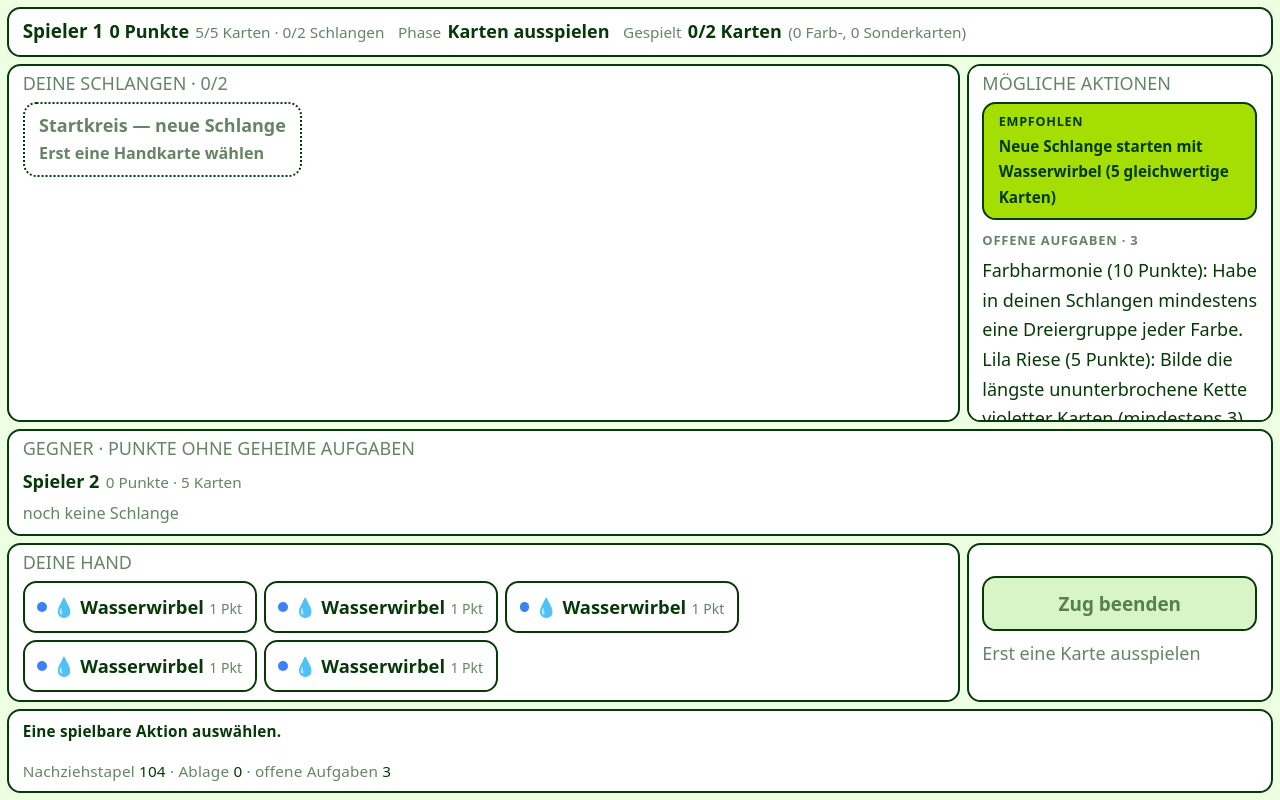
R25 bis R27 — die Phasen laufen über die Engine weiter › holt den Zug nach dem Gegnerzug von selbst zurück, mit Protokoll
The image size is (1280, 800).
Click the button that starts with "Empfohlen" at (1120, 161), box 982,102 -> 1257,220
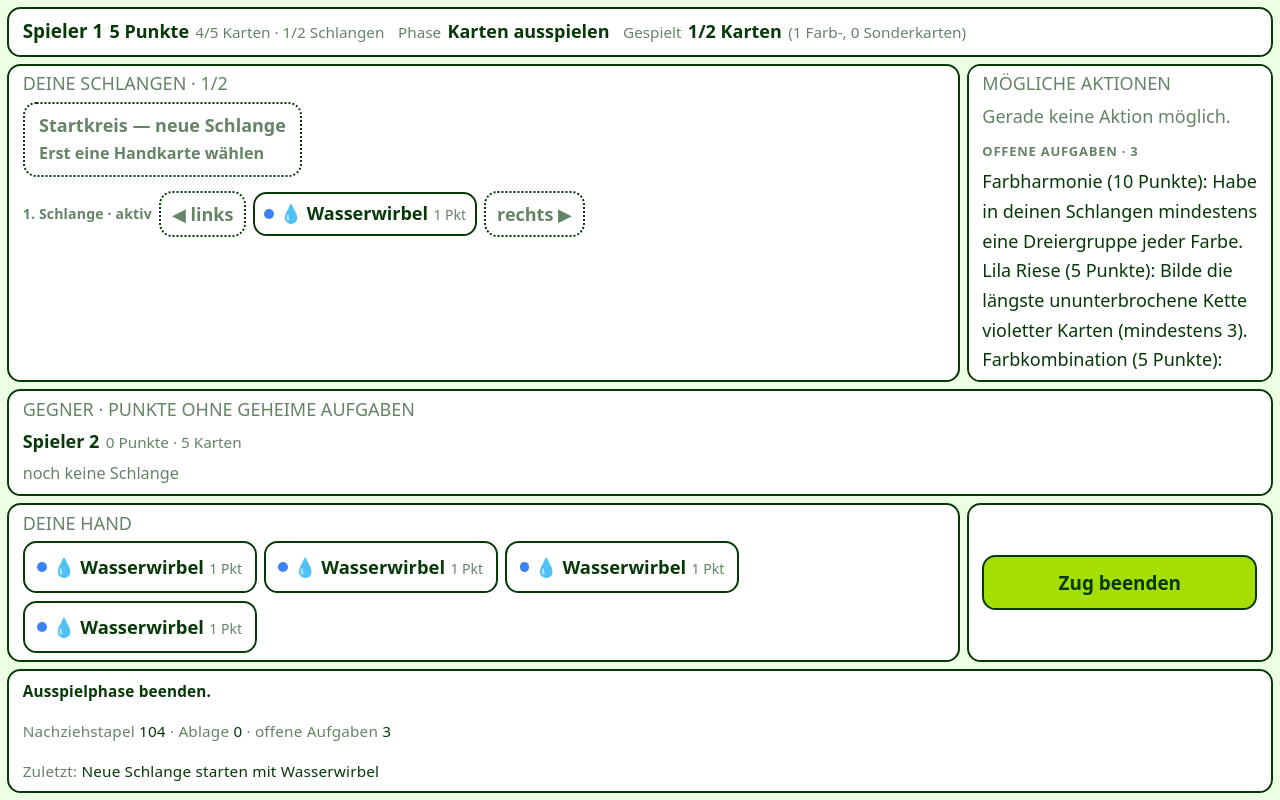
Click the button "Zug beenden" at (1120, 583), box 982,555 -> 1257,610
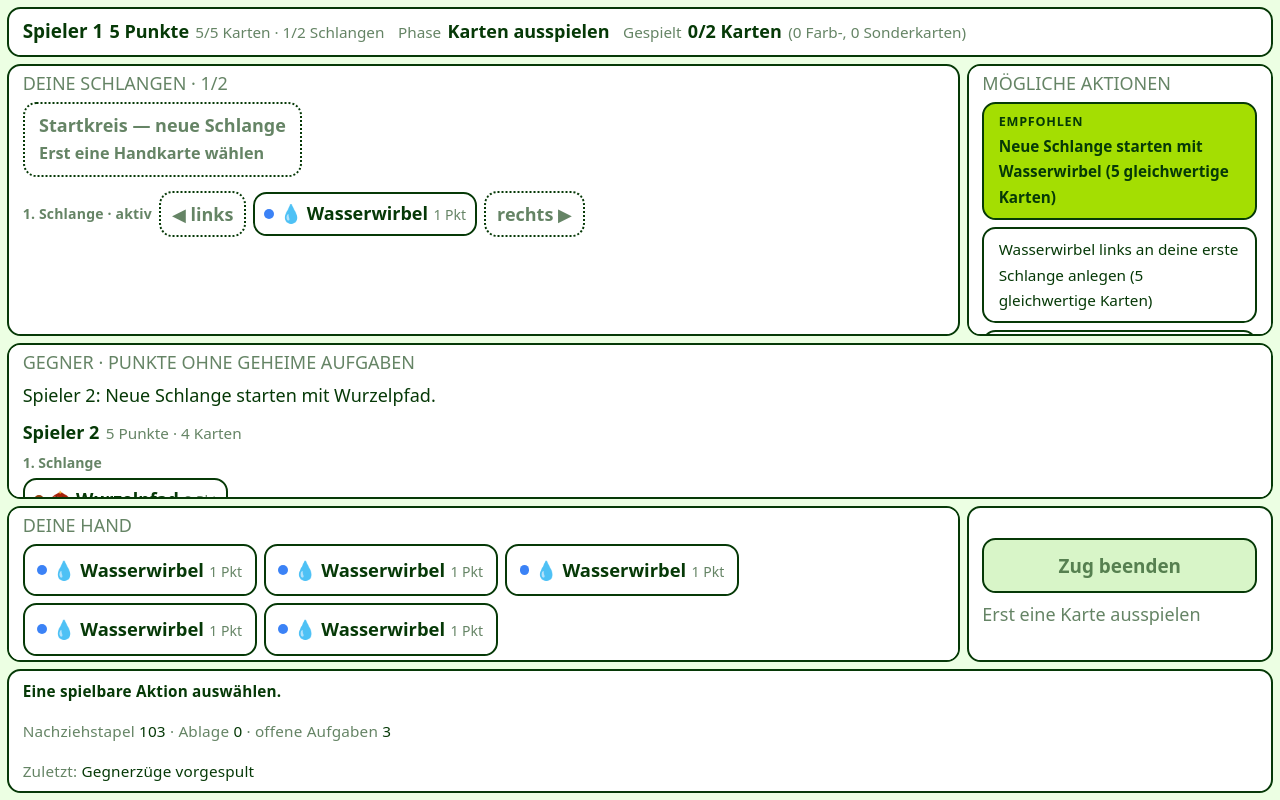
Expected: the button "Zug beenden" is shown, 982,538 -> 1257,593
Expected: the list named "Was der Gegner getan hat" is shown, 23,383 -> 436,407
